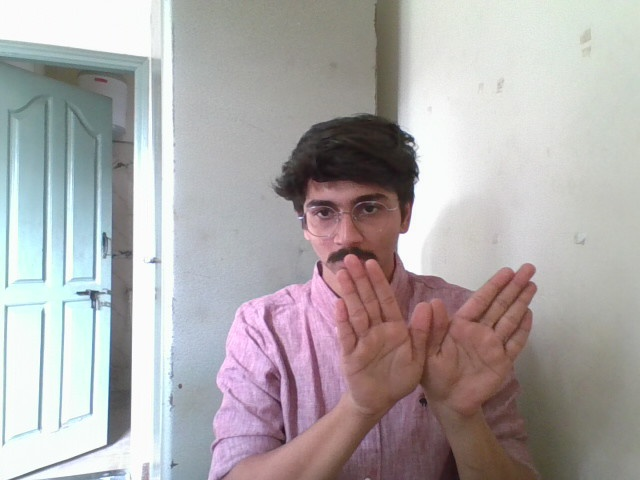hug: (330, 252, 540, 406)
